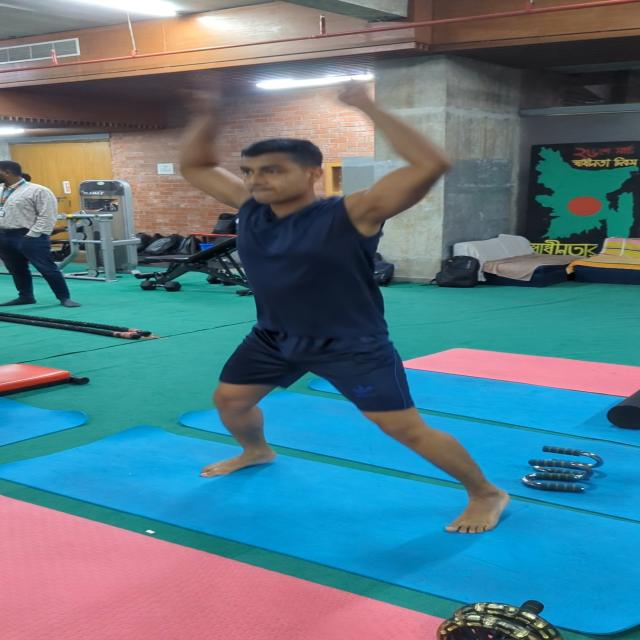Normal_JumpingJacks: (138, 82, 553, 557)
